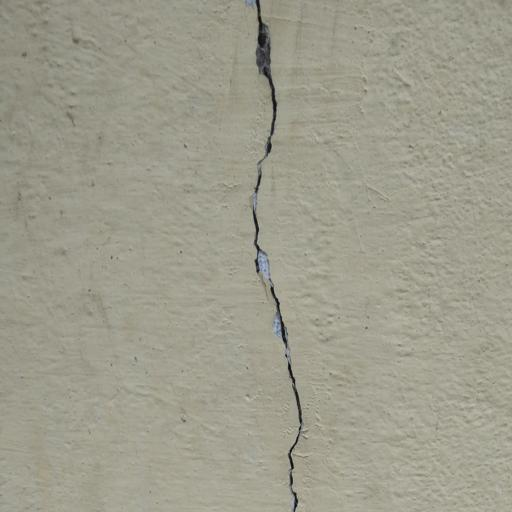major_crack: (236, 0, 324, 512)
